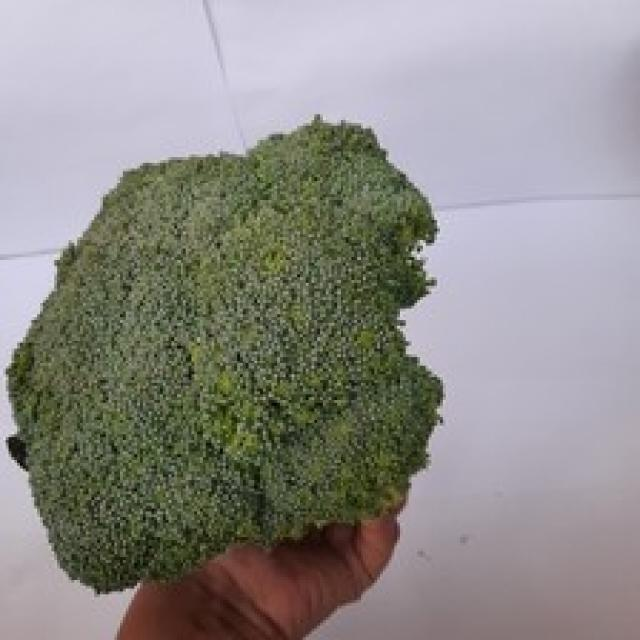Broccoli: (11, 116, 440, 592)
